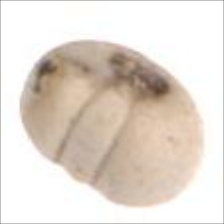L5: (51, 84, 133, 188), (103, 46, 177, 105)
L6: (18, 37, 207, 210)
